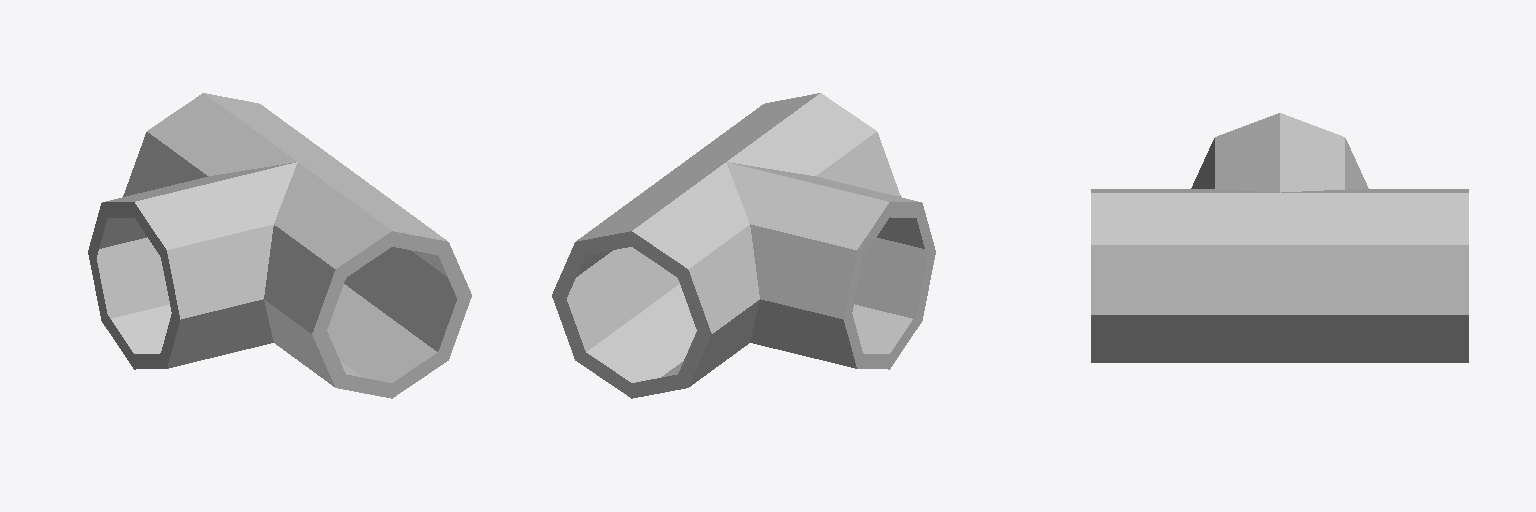
File: pipeSplit.obj
3 views of the same model, side by side, from view 1: azimuth 30°, elevation 25°; view 2: azimuth 150°, elevation 25°; view 3: azimuth 270°, elevation 25° (orthographic).
Parts seen in each view (by area): view 1: pipeSplit; view 2: pipeSplit; view 3: pipeSplit.
Part boxes in pixels (left/top/right/bottom): pipeSplit: left=88, top=93, right=471, bottom=398; pipeSplit: left=552, top=93, right=935, bottom=398; pipeSplit: left=1091, top=113, right=1468, bottom=362.
Bounding box in the file's own units: 7.45 × 4.9 × 10.